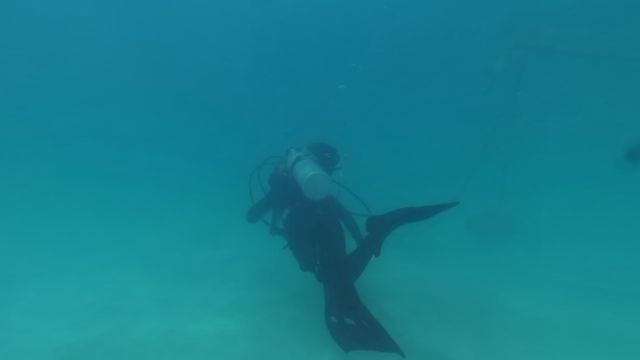Diver: (238, 135, 461, 356)
